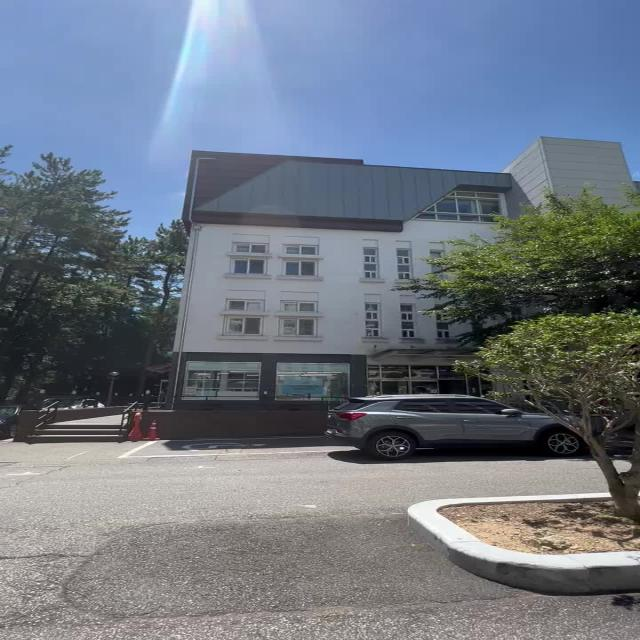building: (154, 148, 468, 398)
